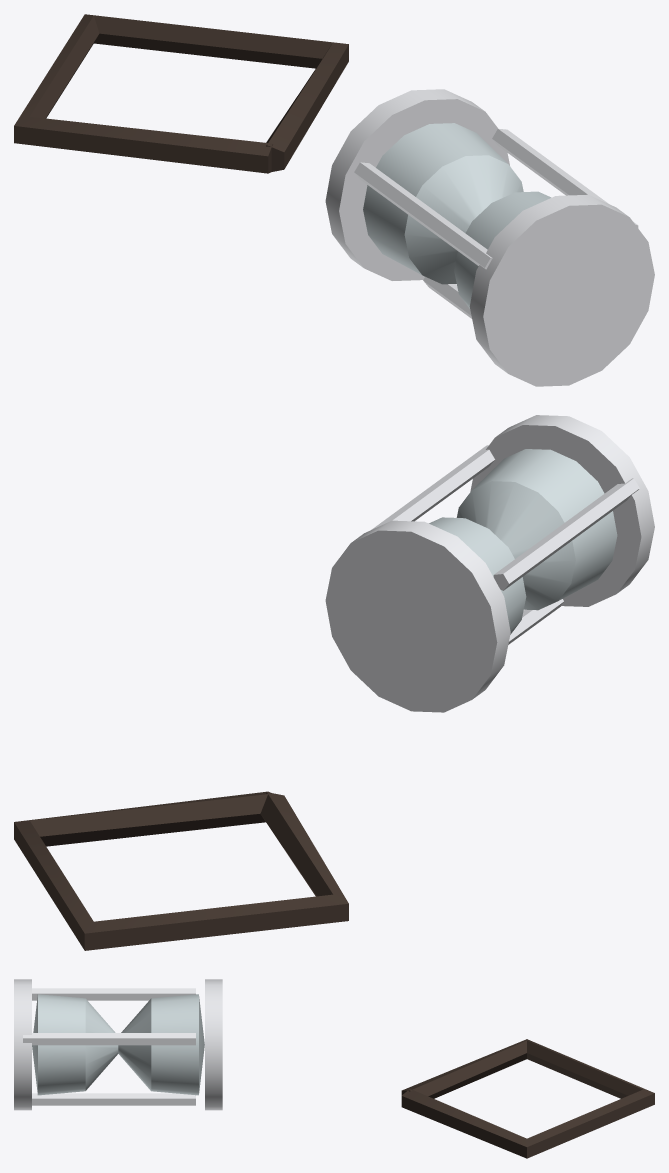
The model's file is tc_reapers_glass.glb.
3 renders of one model, top to bottom at view 1: azimuth 30°, elevation 25°; view 2: azimuth 150°, elevation 25°; view 3: azimuth 270°, elevation 25°, orthographic. The views are drawn at different scales.
Parts seen in each view (by area): view 1: tc_reapers_glass; view 2: tc_reapers_glass; view 3: tc_reapers_glass.
Part boxes in pixels (left/top/right/bottom): tc_reapers_glass: left=14, top=14, right=654, bottom=386; tc_reapers_glass: left=14, top=415, right=654, bottom=950; tc_reapers_glass: left=14, top=979, right=654, bottom=1158.
Bounding box in the file's own units: 0.0429 × 0.0227 × 0.1075.
